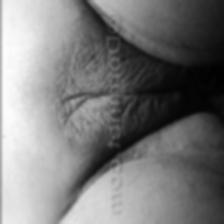Non-Cancerous Skin Condition: (55, 38, 160, 140)
